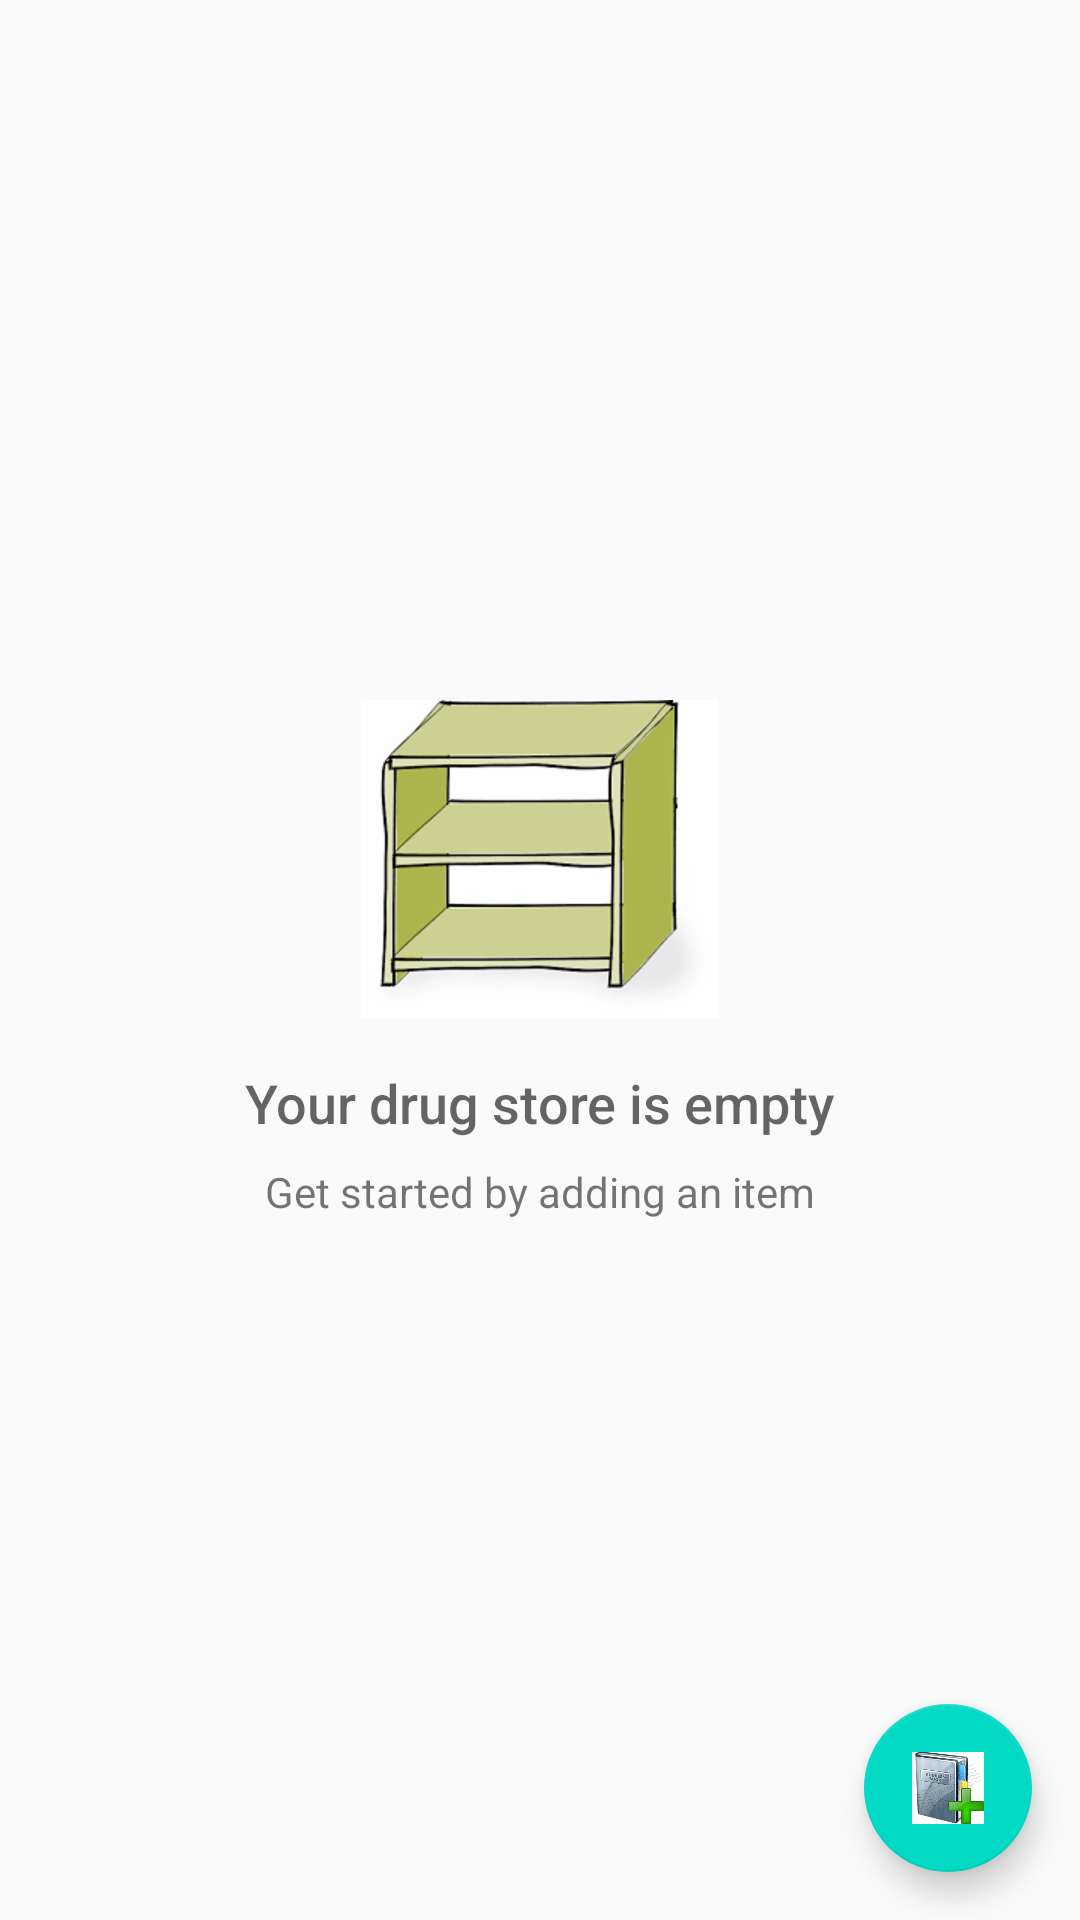

Screen size 1080w x 1920h. Icon name, then its center in pixels as [x,y]:
book add: [948,1788]
